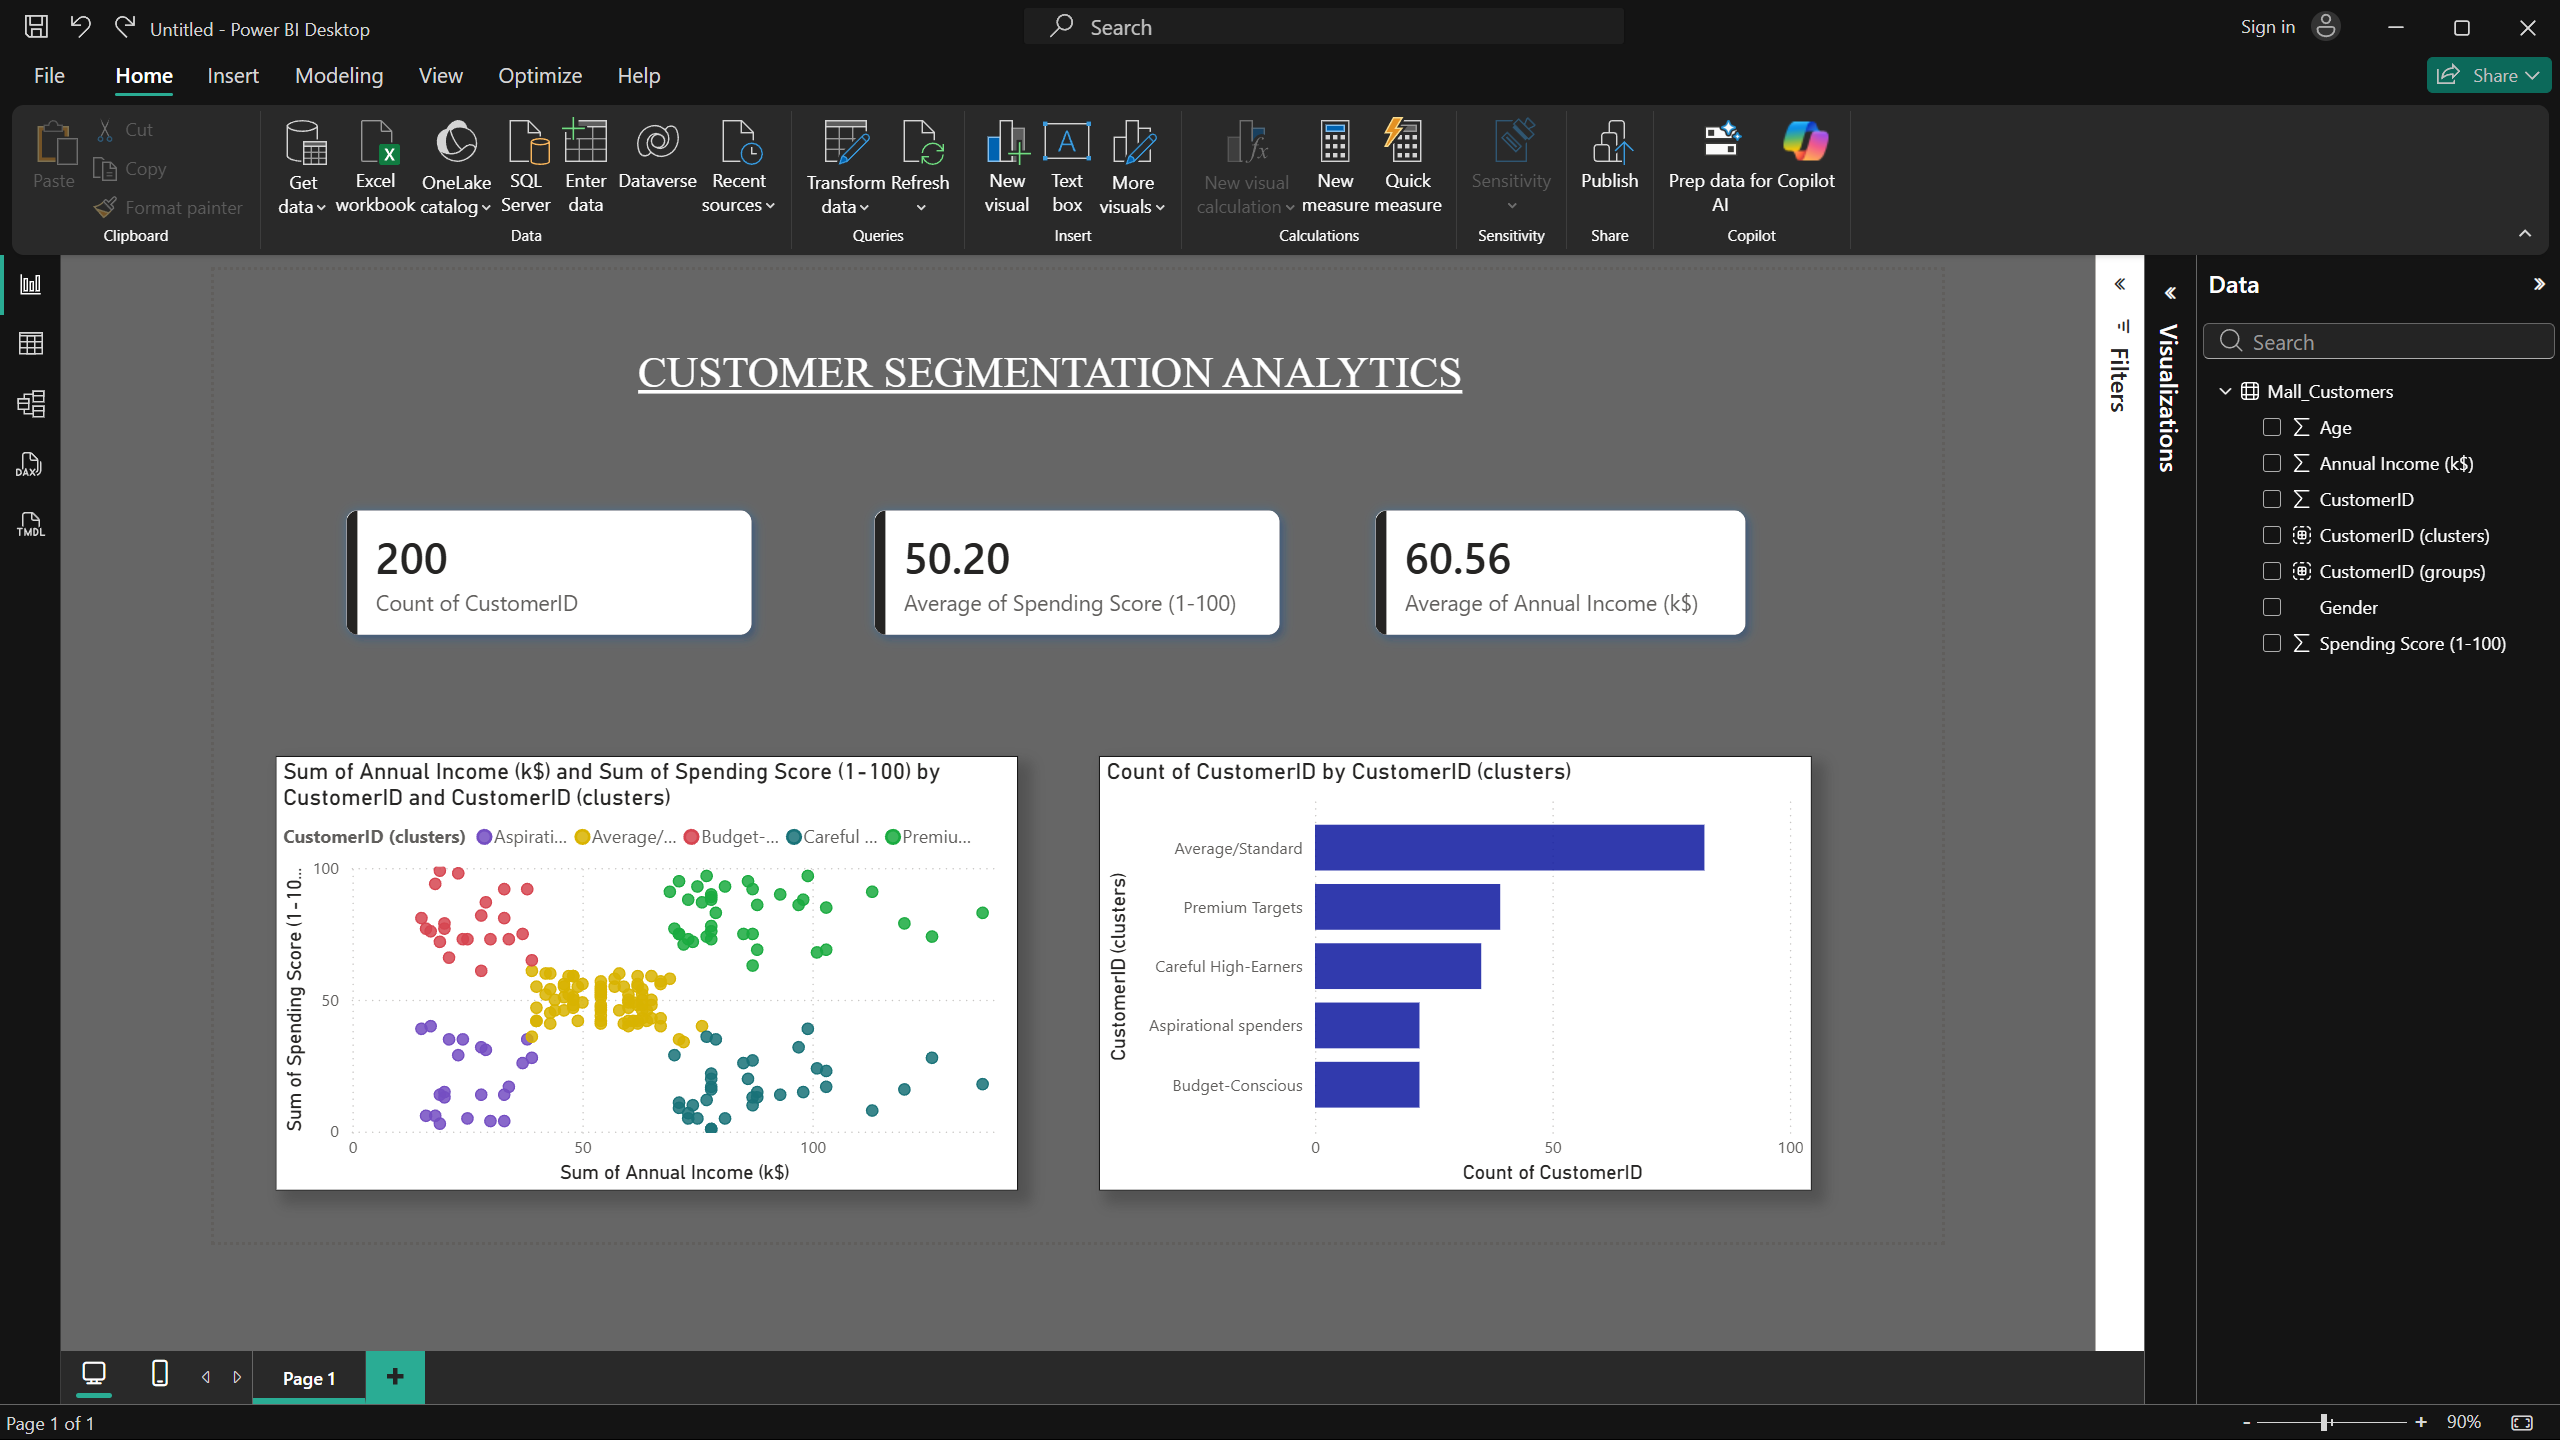

The page's visual inventory and layout, read from the dashboard file:
{"tool":"powerbi","page":{"name":"Page 1","canvas":[1280,720],"ordinal":0},"visuals":[{"type":"cardVisual","fields":{"Data":["CountNonNull(Mall_Customers.CustomerID)"]},"box":[68.9,148.9,358.9,150],"z":0},{"type":"cardVisual","fields":{"Data":["Avg(Mall_Customers.Spending Score (1-100))"]},"box":[460,148.9,358.9,150],"z":1000},{"type":"cardVisual","fields":{"Data":["Avg(Mall_Customers.Annual Income (k$))"]},"box":[831.1,148.9,332.2,150],"z":2000},{"type":"scatterChart","fields":{"X":["Sum(Mall_Customers.Annual Income (k$))"],"Y":["Sum(Mall_Customers.Spending Score (1-100))"],"Category":["Mall_Customers.CustomerID"],"Series":["Mall_Customers.CustomerID (clusters)"]},"box":[45.6,360,550,322.2],"z":3000},{"type":"clusteredBarChart","fields":{"Category":["Mall_Customers.CustomerID (clusters)"],"Y":["CountNonNull(Mall_Customers.CustomerID)"]},"box":[655.6,360,527.8,322.2],"z":4000},{"type":"textbox","box":[177.8,52.2,883.3,57.8],"z":5000}]}

Visuals, with their boxes on the page's 1280x720 design canvas (x1, y1, x2, y2). These are canvas units, not pixel positions in the 2560x1440 screenshot, which may show the page scaled, cropped or inside an application window:
cardVisual - CountNonNull(Mall_Customers.CustomerID): bbox=[69, 149, 428, 299]
cardVisual - Avg(Mall_Customers.Spending Score (1-100)): bbox=[460, 149, 819, 299]
cardVisual - Avg(Mall_Customers.Annual Income (k$)): bbox=[831, 149, 1163, 299]
scatterChart - Sum(Mall_Customers.Annual Income (k$)) x Sum(Mall_Customers.Spending Score (1-100)): bbox=[46, 360, 596, 682]
clusteredBarChart - Mall_Customers.CustomerID (clusters) x CountNonNull(Mall_Customers.CustomerID): bbox=[656, 360, 1183, 682]
textbox: bbox=[178, 52, 1061, 110]
